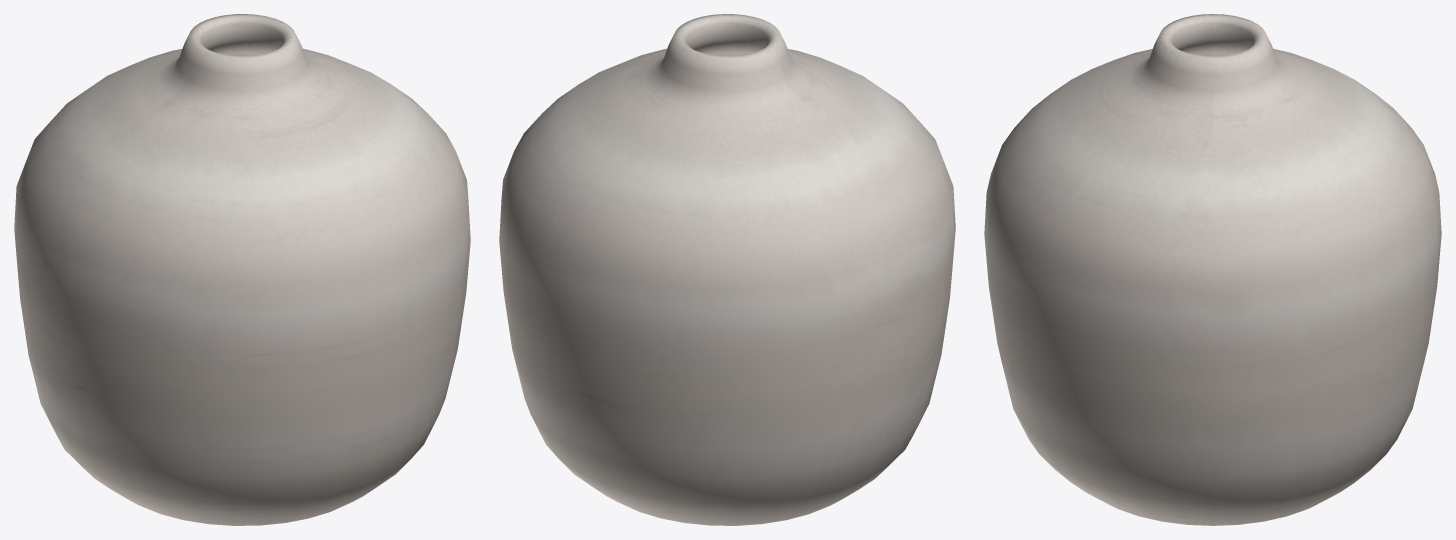
The model's file is vase01.fbx.
3 views of the same model, side by side, from view 1: azimuth 30°, elevation 25°; view 2: azimuth 150°, elevation 25°; view 3: azimuth 270°, elevation 25° (orthographic).
Parts seen in each view (by area): view 1: vases; view 2: vases; view 3: vases.
Part boxes in pixels (x1=…): vases: x1=14, y1=14, x2=470, y2=525; vases: x1=499, y1=14, x2=955, y2=525; vases: x1=984, y1=14, x2=1441, y2=525.
Bounding box in the file's own units: 14.22 × 14.9 × 14.22.
